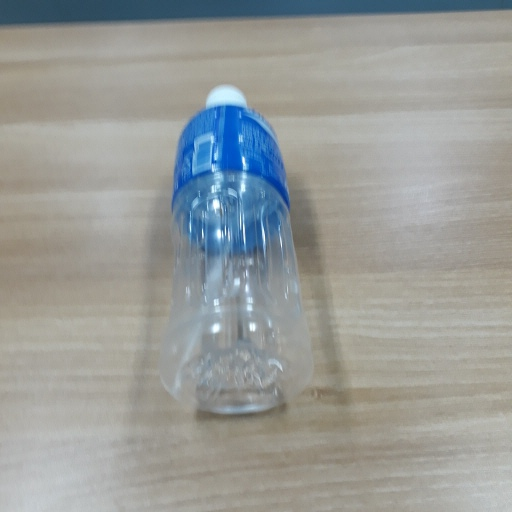Plastic_0: (161, 81, 313, 419)
